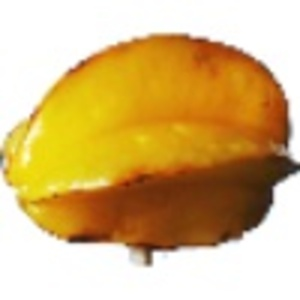carambola: (1, 31, 300, 268)
